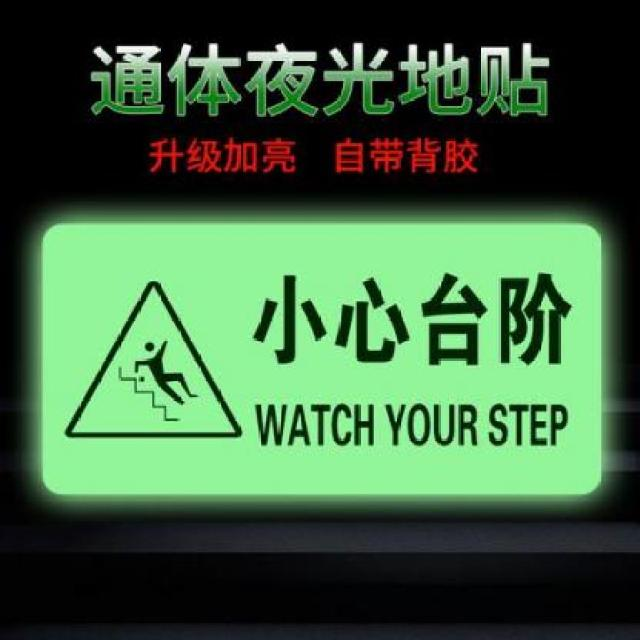exit_sign: (40, 220, 606, 490)
